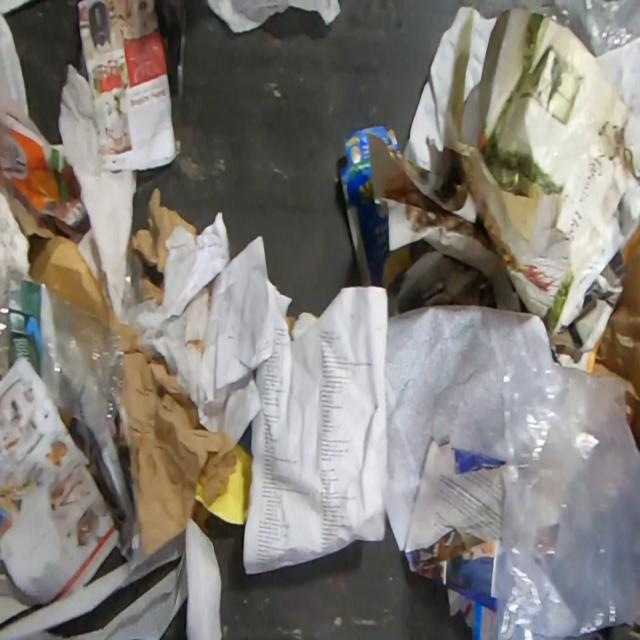cardboard: (338, 124, 413, 289)
rigid_plastic: (0, 266, 126, 442)
soft_plastic: (495, 344, 640, 640), (459, 0, 640, 59)
